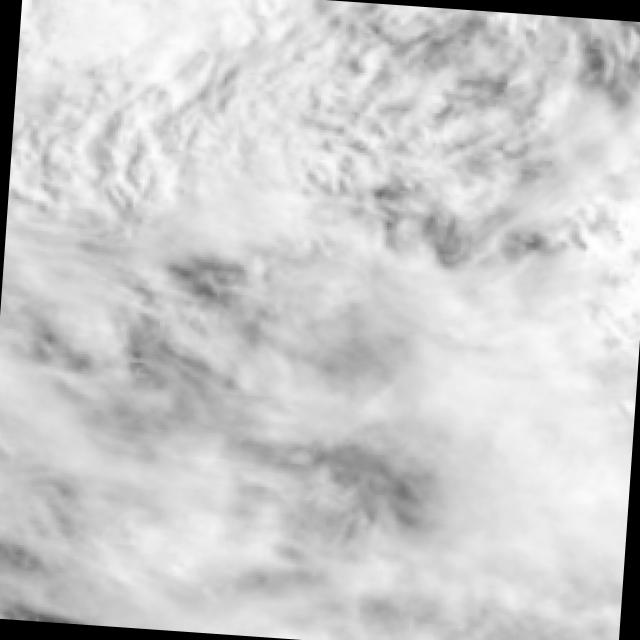CB: (34, 0, 219, 92)
